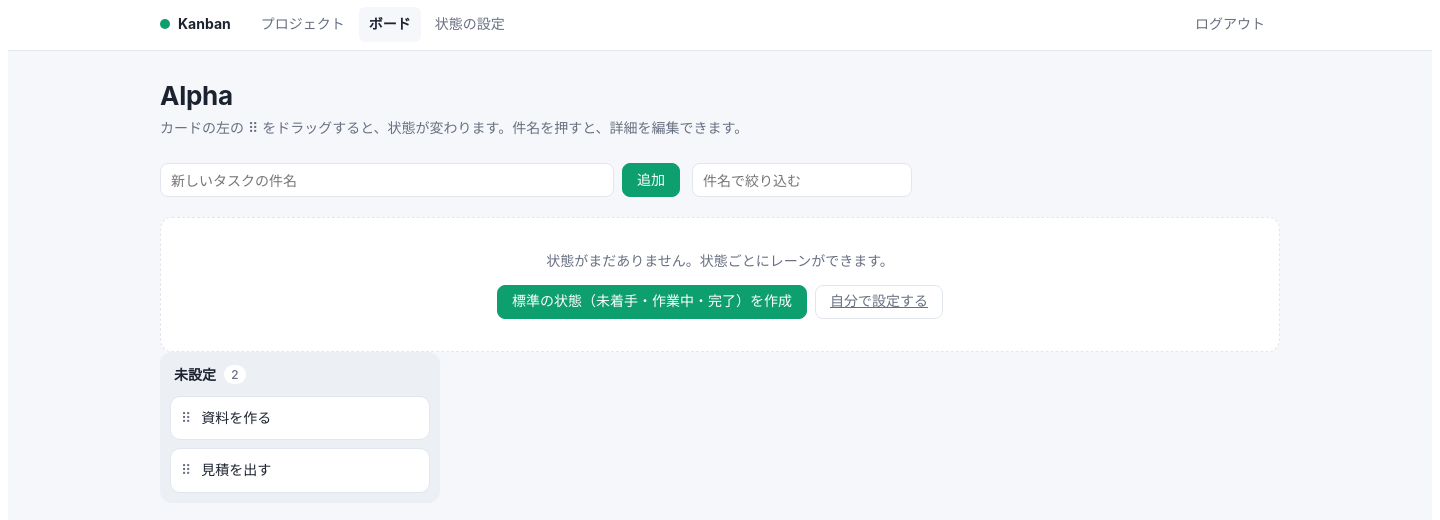
board: offers the standard statuses when the project has none
This screenshot has width=1440, height=520.
Click the button "標準の状態（未着手・作業中・完了）を作成": point(652, 302) [497,285,807,319]
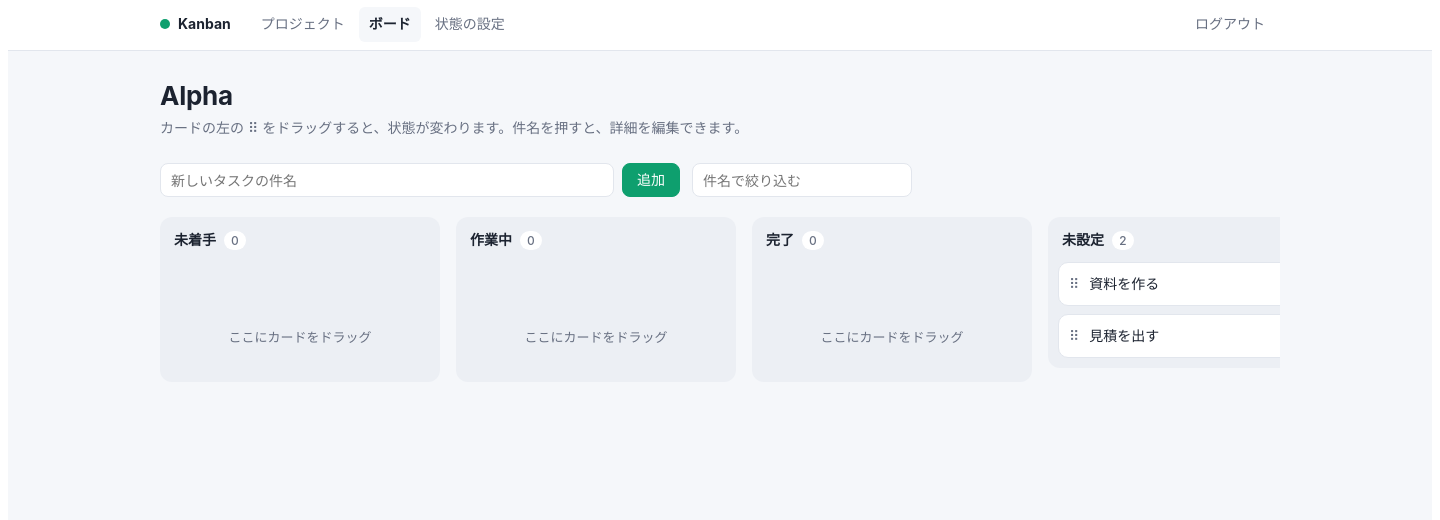
Check: the element named "作業中 0件" is shown, box [456,217,736,382]
